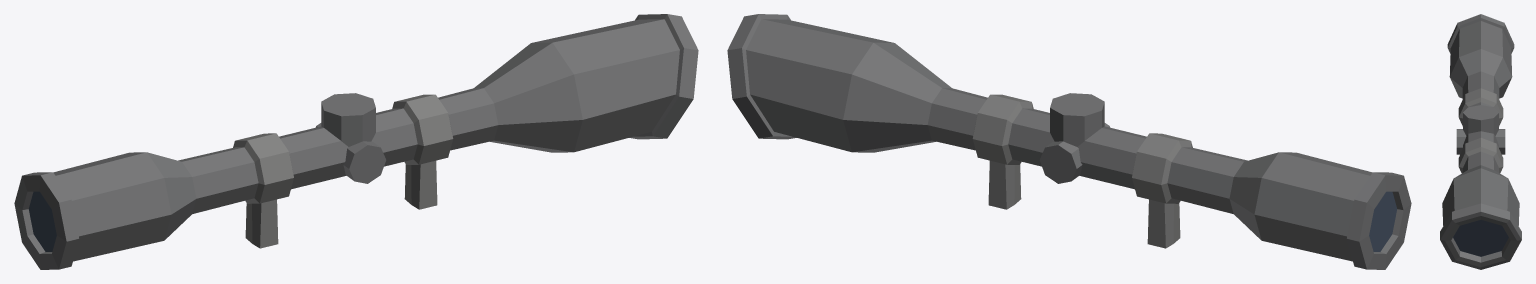
File: acc-scope-2.glb
The picture shows the model from 3 angles, left to right: view 1: azimuth 30°, elevation 25°; view 2: azimuth 150°, elevation 25°; view 3: azimuth 270°, elevation 25°; orthographic projection. The views are drawn at different scales.
Parts seen in each view (by area): view 1: Scope_2; view 2: Scope_2; view 3: Scope_2.
Boxes of the visible parts, <box> form: Scope_2: <box>14,14,698,269</box>; Scope_2: <box>727,14,1411,269</box>; Scope_2: <box>1440,14,1521,269</box>.
Size of the model in its own units: 2.08 by 0.3983 by 0.3604.
